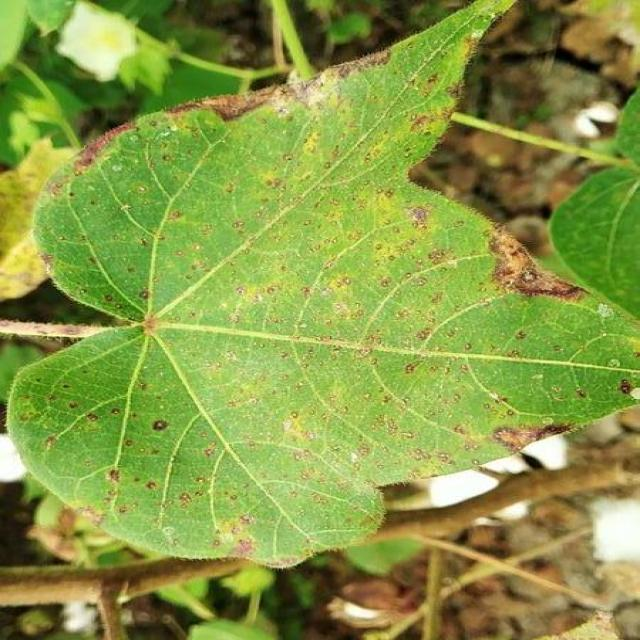Bacterial Blight: (98, 92, 575, 379)
